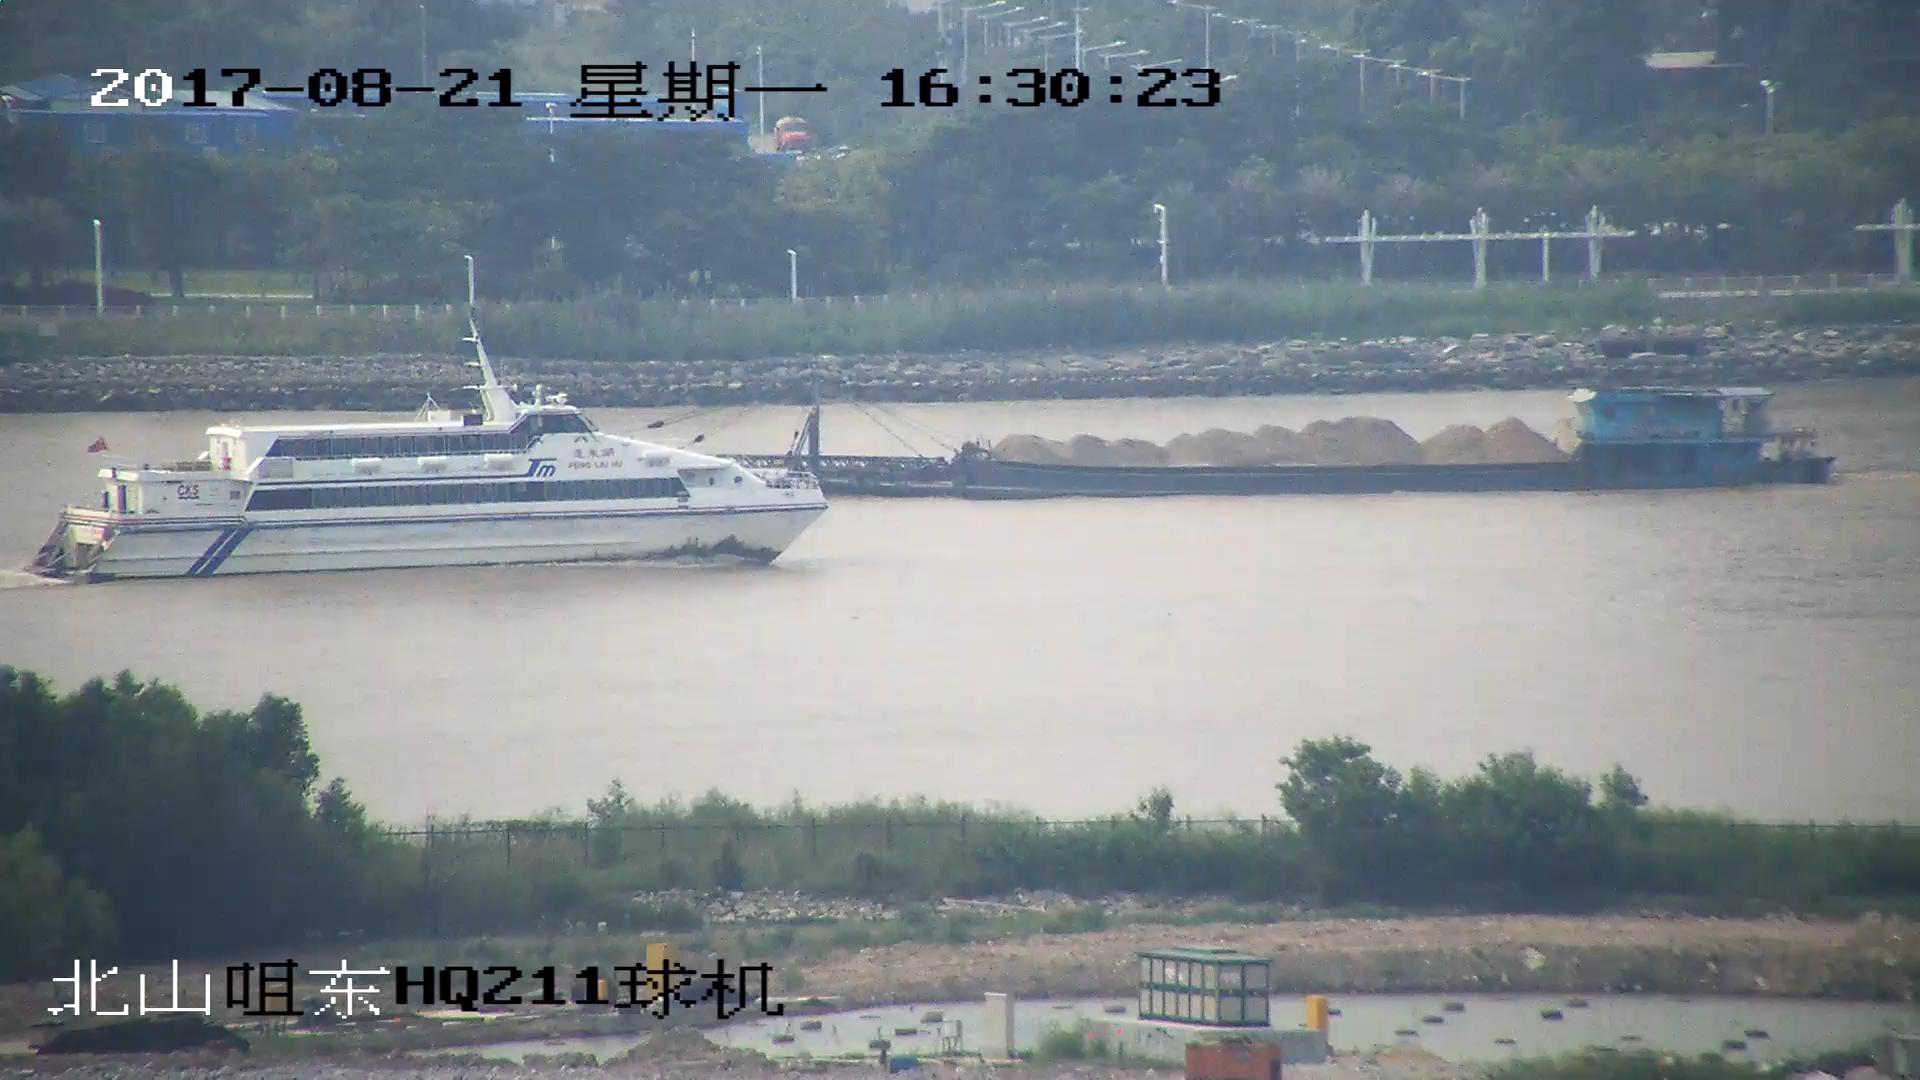ore carrier: (733, 371, 1832, 495)
passenger ship: (35, 318, 833, 576)
